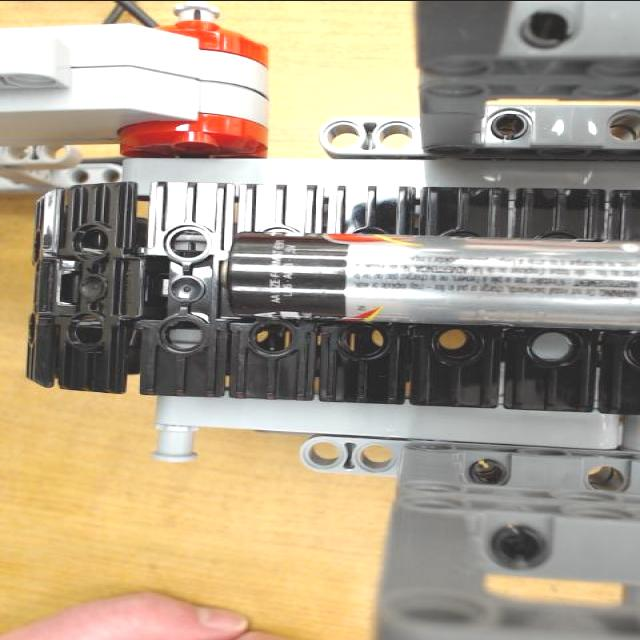AA: (226, 236, 640, 317)
